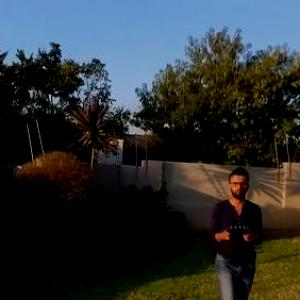follow: (206, 162, 265, 299)
